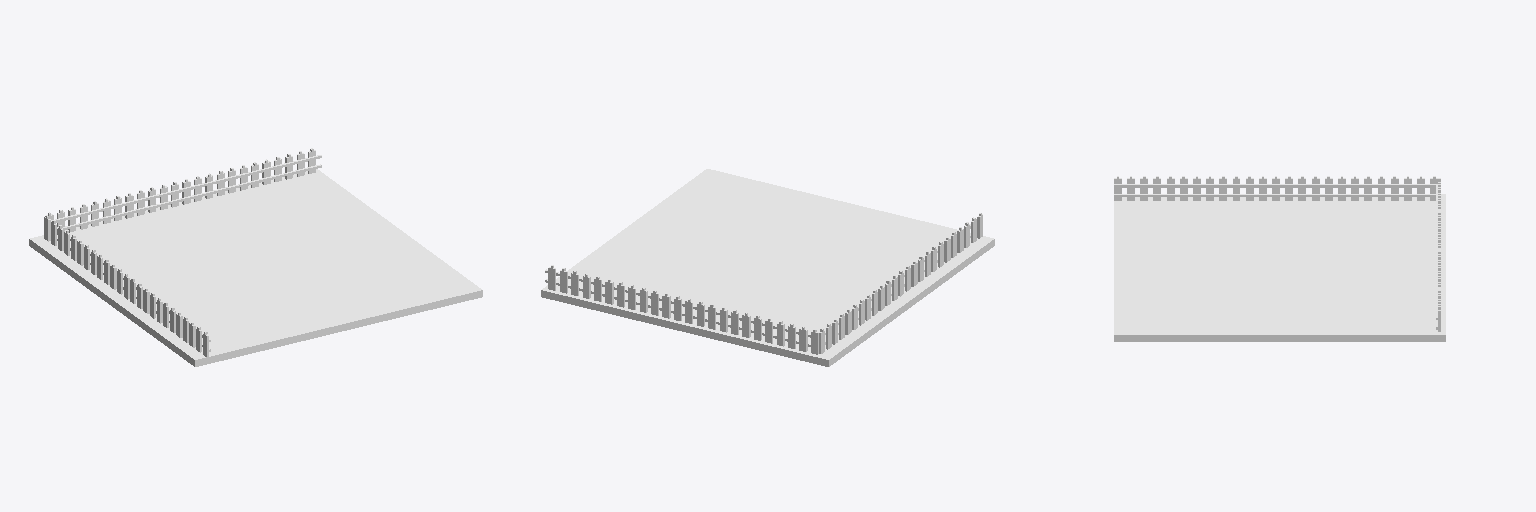
The model's file is funland-3.obj.
The picture shows the model from 3 angles: view 1: azimuth 30°, elevation 25°; view 2: azimuth 150°, elevation 25°; view 3: azimuth 270°, elevation 25°; orthographic projection.
Visible parts, largest first — view 1: object 1; view 2: object 1; view 3: object 1.
Part boxes in pixels (left/top/right/bottom): object 1: left=29, top=148, right=482, bottom=366; object 1: left=541, top=169, right=994, bottom=366; object 1: left=1114, top=176, right=1445, bottom=341.
Bounding box in the file's own units: 12.6 × 1.3 × 12.6.